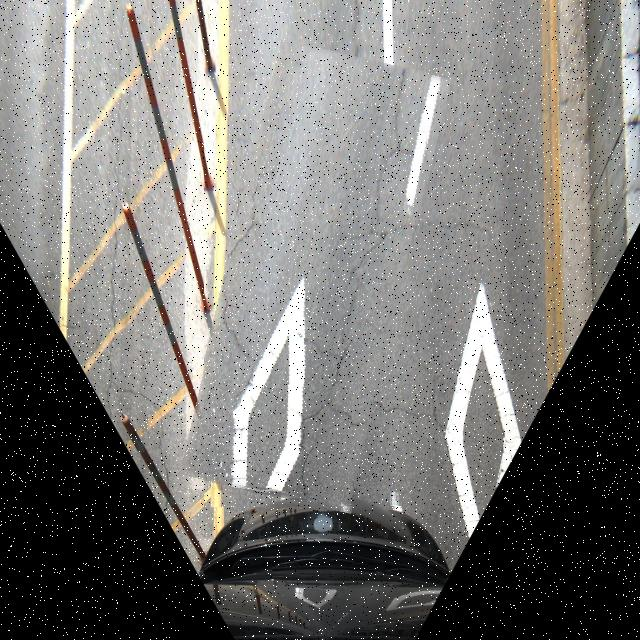diamond: (204, 47, 428, 507)
